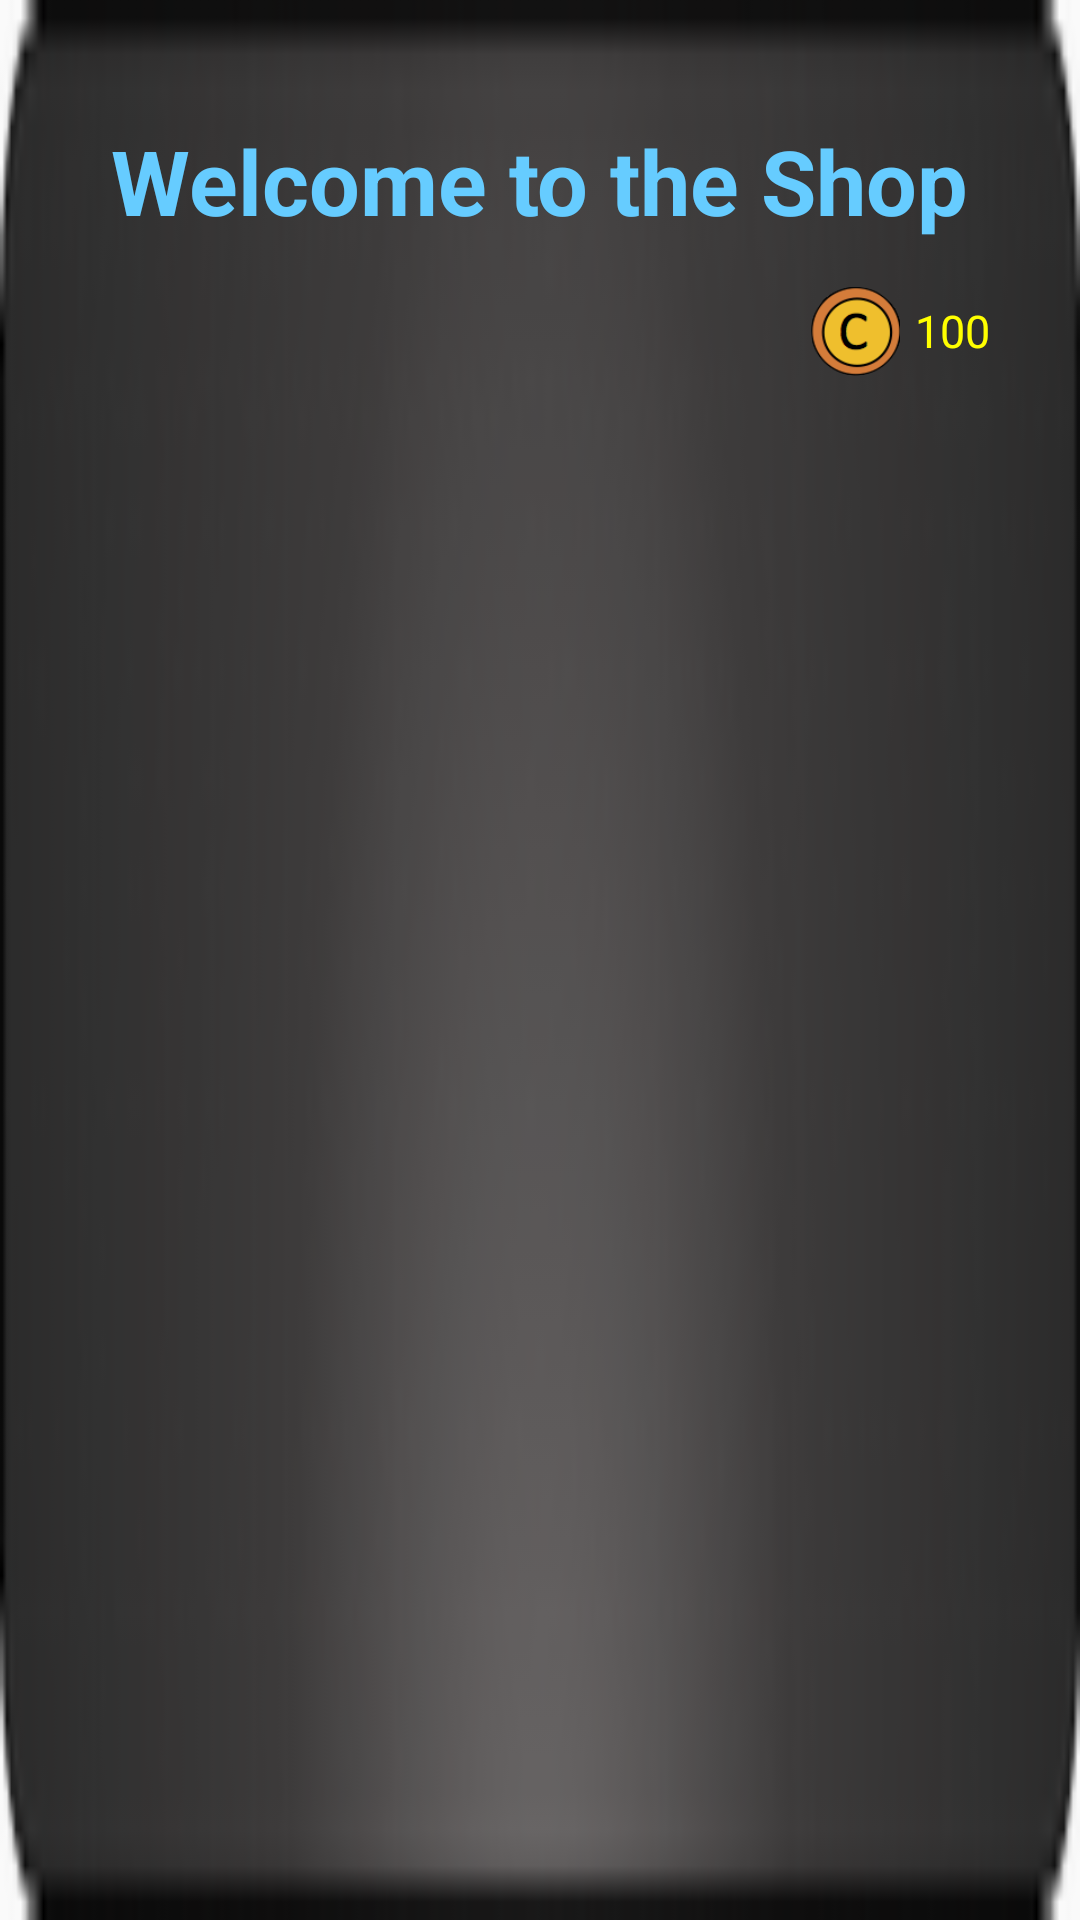

Named icons in this screenshot (1080px x 1920px) and their centers, (x,y):
coin: (855,331)
